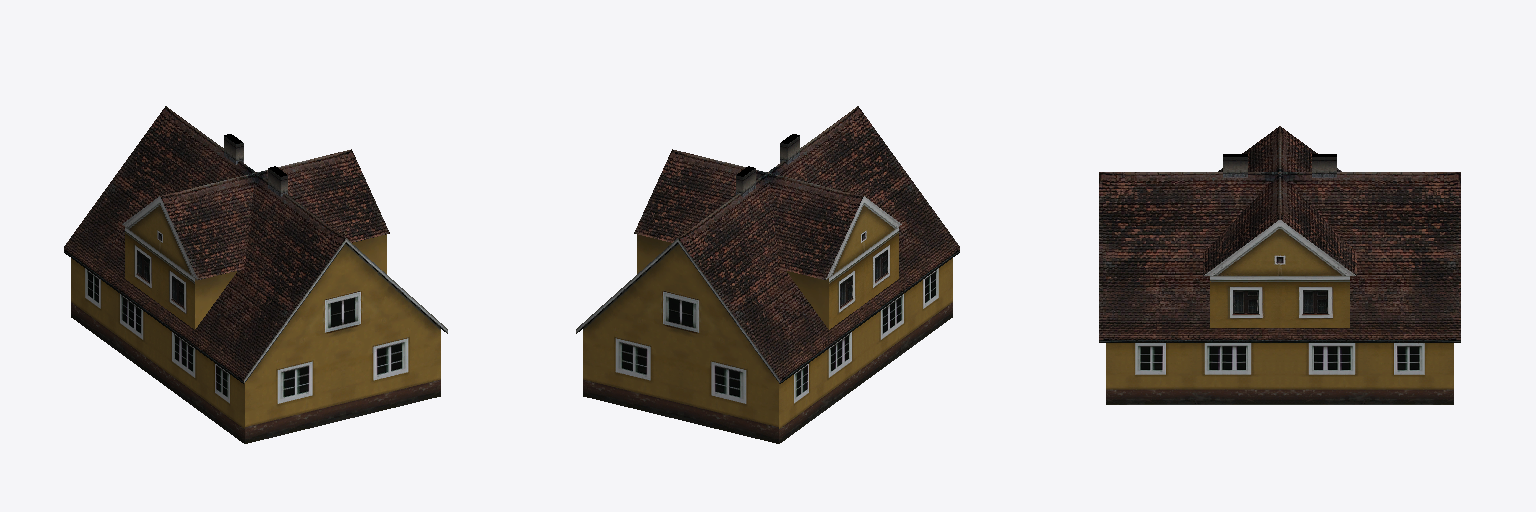
The picture shows the model from 3 angles: view 1: azimuth 30°, elevation 25°; view 2: azimuth 150°, elevation 25°; view 3: azimuth 270°, elevation 25°; orthographic projection.
Parts seen in each view (by area): view 1: village_house_2; view 2: village_house_2; view 3: village_house_2.
Part boxes in pixels (left/top/right/bottom): village_house_2: left=64, top=106, right=447, bottom=443; village_house_2: left=576, top=106, right=959, bottom=443; village_house_2: left=1099, top=126, right=1460, bottom=404.
Size of the model in its own units: 8.5 by 8 by 13.
Materials: 1 (1 with a texture image).